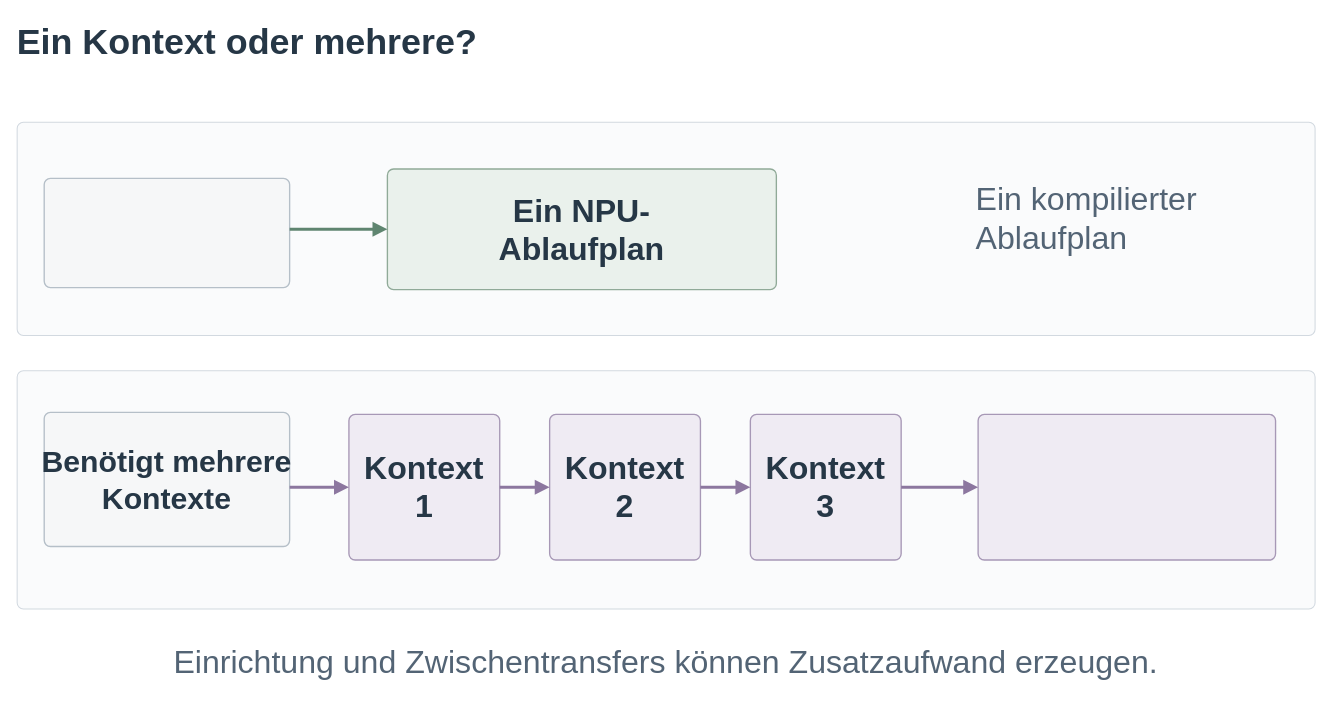
Some shapes in this 1332 by 706 pixel diagram are drawn without their labels. Here are the shapes that lost their labels. From the top down, the box of each, then its label:
(43, 177, 290, 288): Passt in einen Kontext
(977, 413, 1276, 560): Hostseitiger Zusatzaufwand
